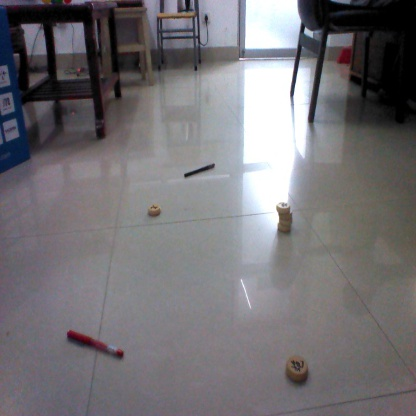chess: (282, 352, 313, 383), (273, 202, 295, 234), (144, 203, 163, 217)
pen: (63, 329, 127, 358), (182, 160, 218, 179)
